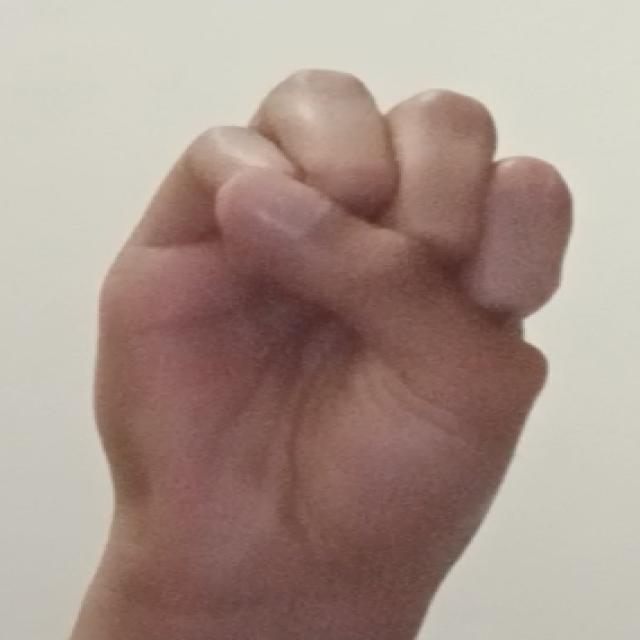S: (89, 49, 580, 576)
